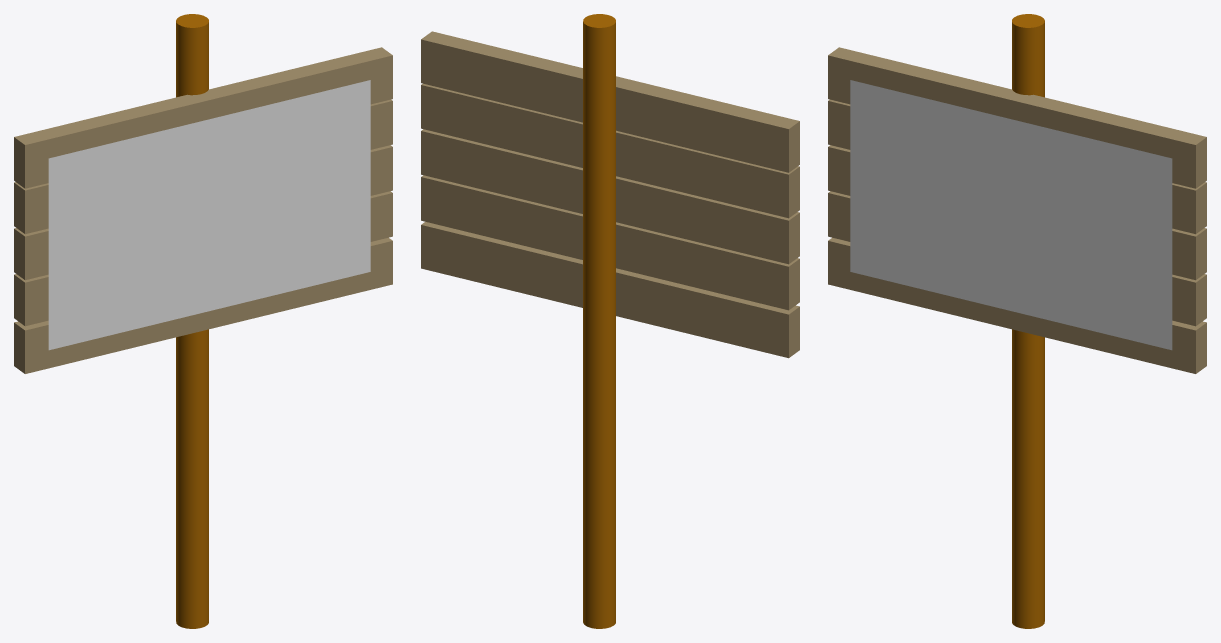
File: kanban.fbx
3 renders of one model, left to right at view 1: azimuth 30°, elevation 25°; view 2: azimuth 150°, elevation 25°; view 3: azimuth 330°, elevation 25°, orthographic.
Visible parts, largest first — view 1: pPlane1, pCube2, pCylinder1; view 2: pCube2, pCylinder1; view 3: pPlane1, pCube2, pCylinder1.
Part boxes in pixels (box(x1,y1,x2,y2)): pPlane1: box(48, 80, 370, 350); pCube2: box(14, 47, 392, 373); pCylinder1: box(176, 14, 208, 628); pCube2: box(421, 31, 799, 358); pCylinder1: box(583, 14, 615, 628); pPlane1: box(850, 80, 1172, 350); pCube2: box(828, 47, 1206, 373); pCylinder1: box(1012, 14, 1044, 628).
Size of the model in its own units: 1.28 by 2 by 0.1528.
